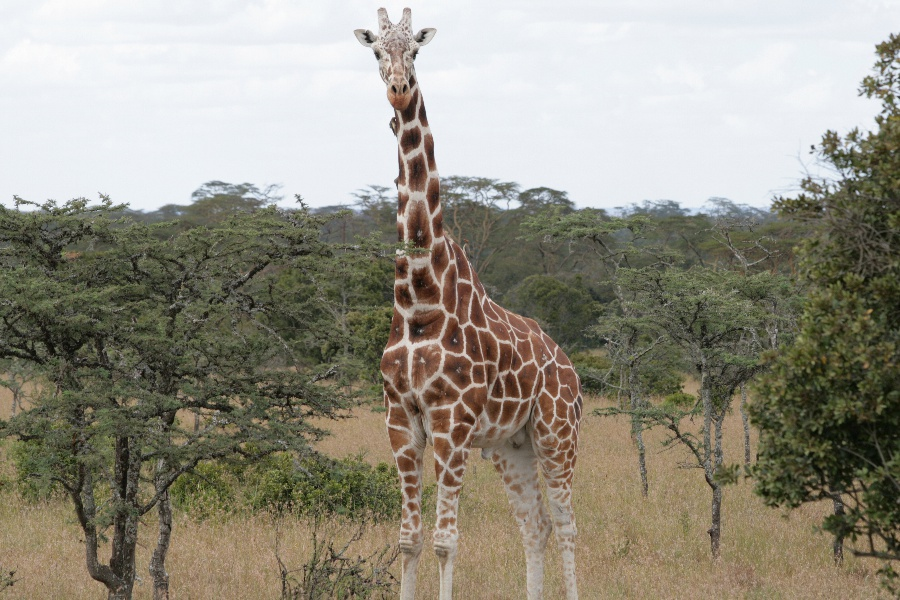giraffe: (343, 0, 598, 598)
